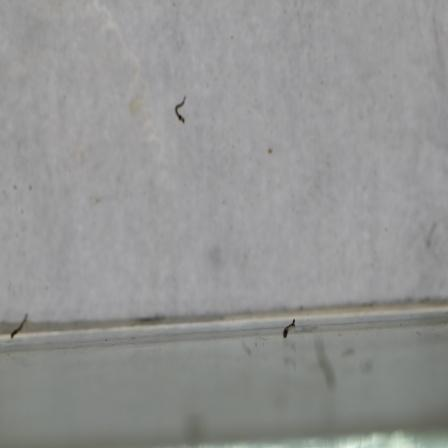Jentik-Nyamuk: (7, 313, 30, 342), (171, 93, 189, 126), (277, 315, 299, 339)
